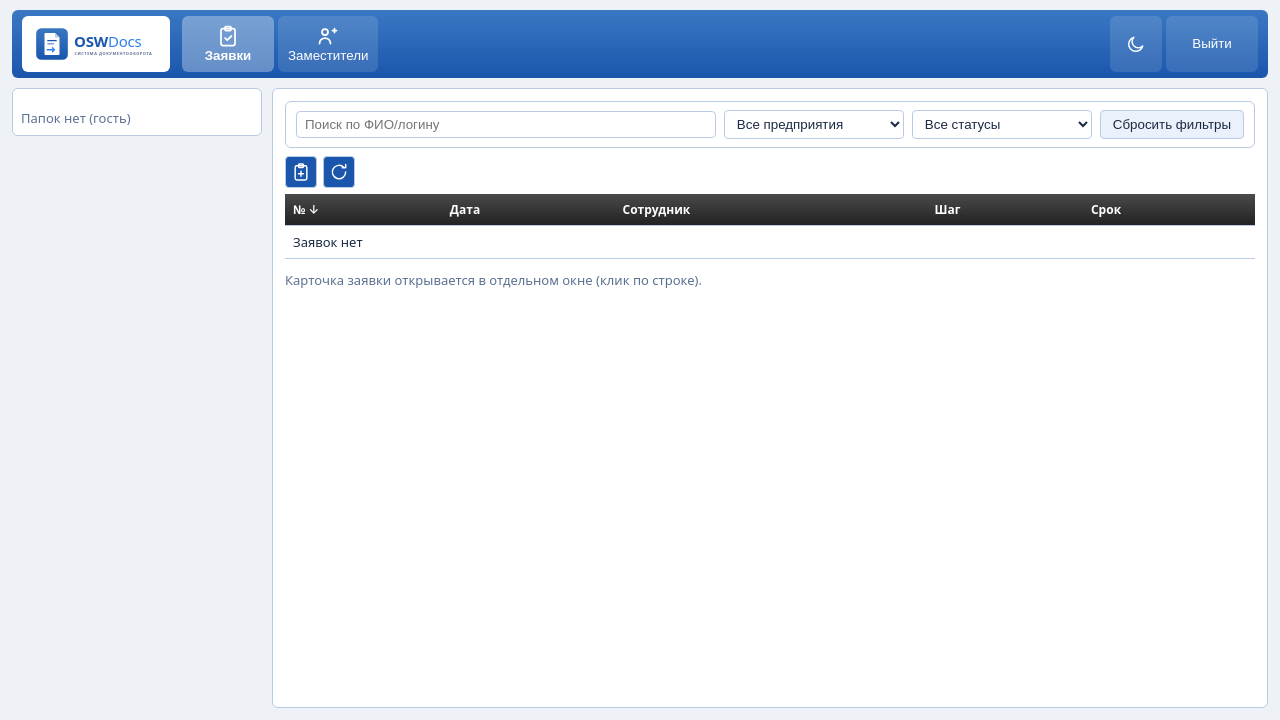
Test: SedLayout › вкладка «Заместители» — сразу после «Заявки» и видна без блоков прав
The width and height of the screenshot is (1280, 720).
Click the button "Заместители" at (328, 44), box [278, 16, 378, 72]
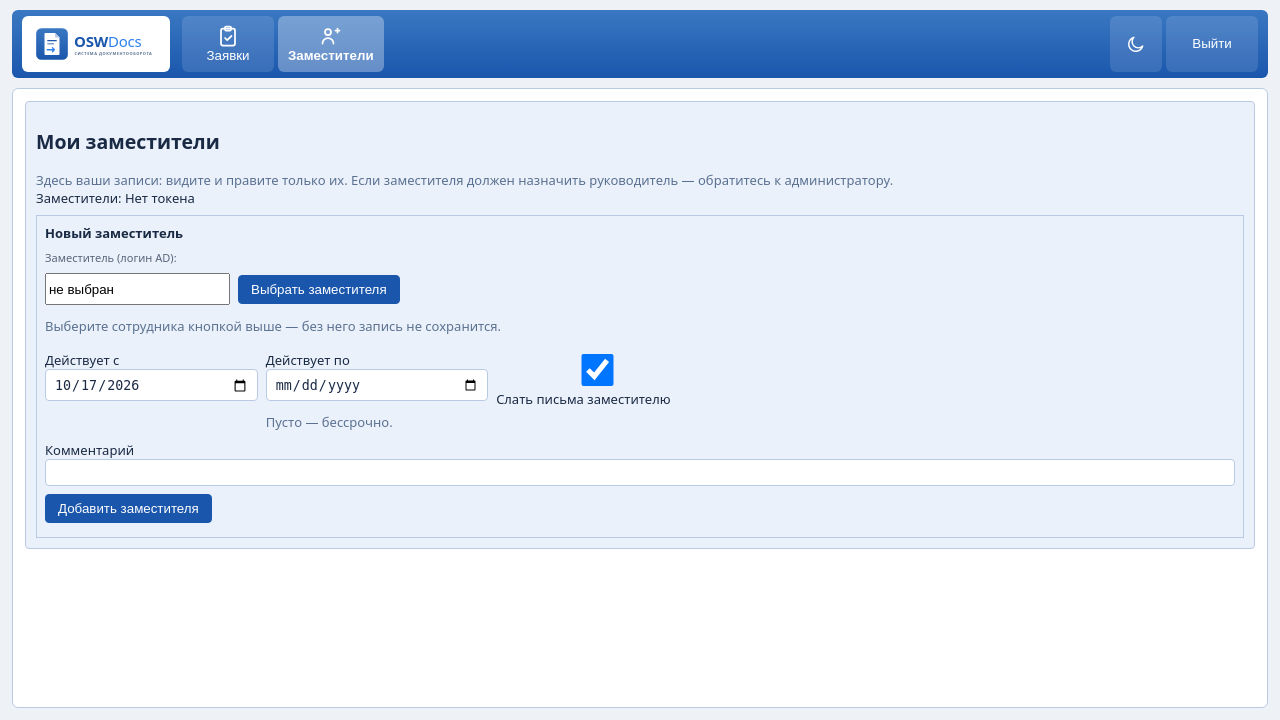
Result: the heading "Мои заместители" is shown at [36, 128, 220, 155]
Result: the button "Выбрать заместителя" is shown at [238, 275, 400, 304]
